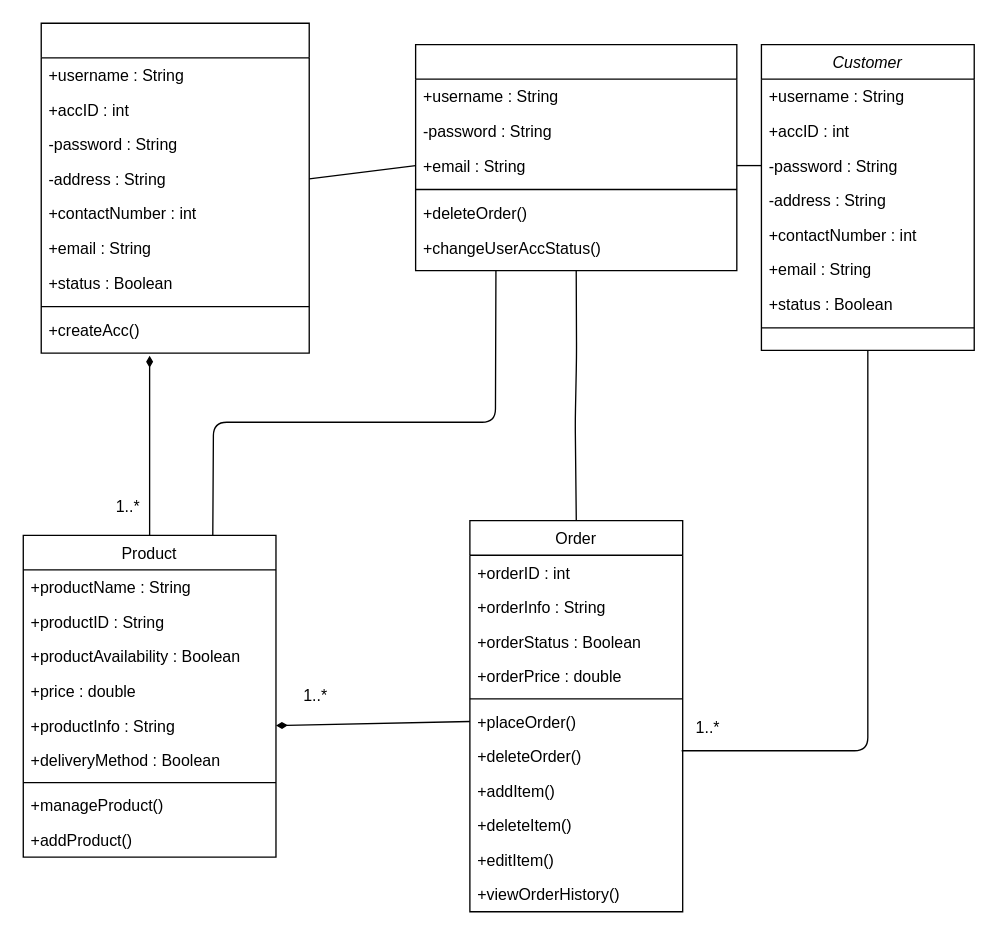
Image size: 998x939. Some labels were removed from this diagram. The box of each missing label's shape, as (x1, y1, x2, y2) in pixels:
Administrator: (414, 43, 737, 271)
Retailer: (40, 22, 309, 353)
